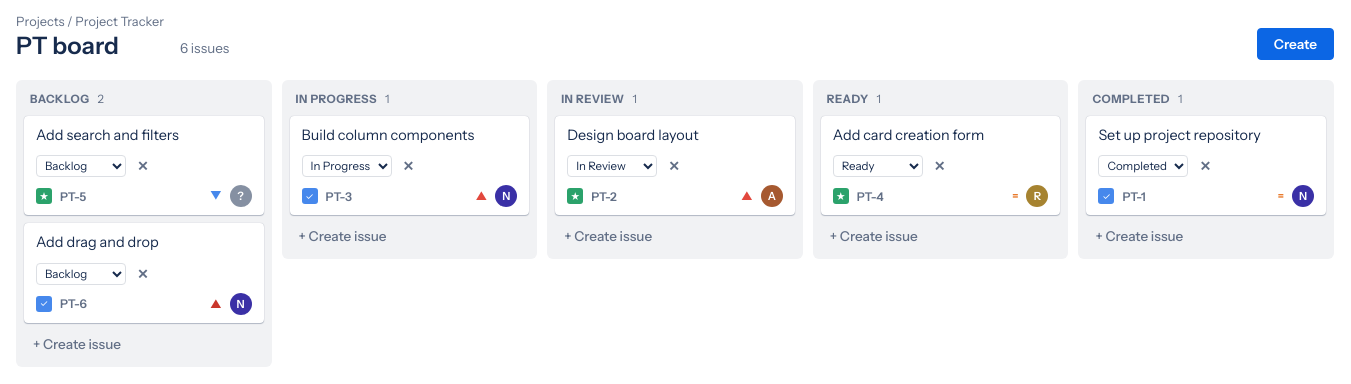
Scenario: Deleting and saving › deletes an issue
This screenshot has width=1351, height=384.
Click the button named "Delete \"Add drag and drop\"" at (143, 274), box 130,263 -> 155,285
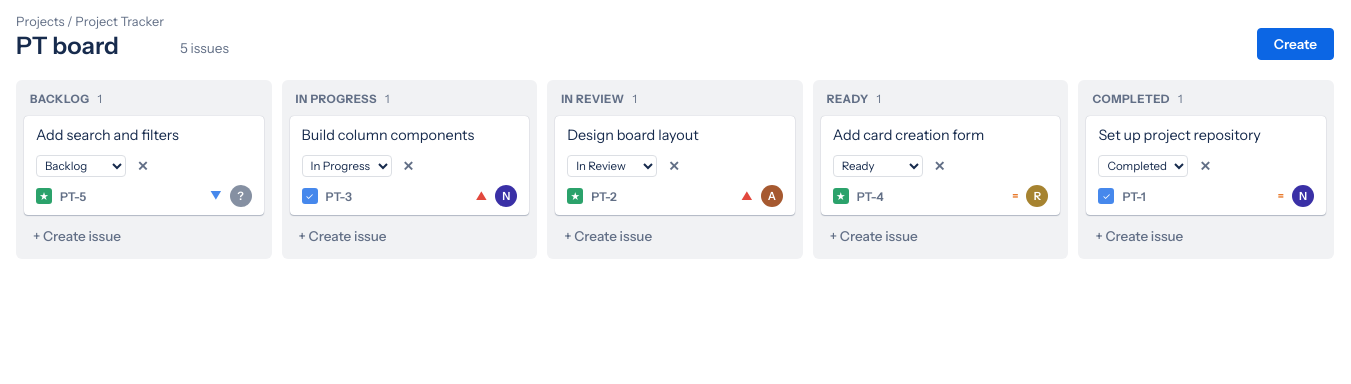
Now the text "Add drag and drop" is gone
